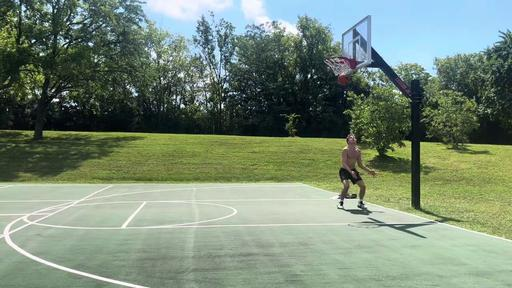ball: (336, 74, 350, 86)
human: (336, 134, 376, 210)
rim: (324, 56, 350, 79)
